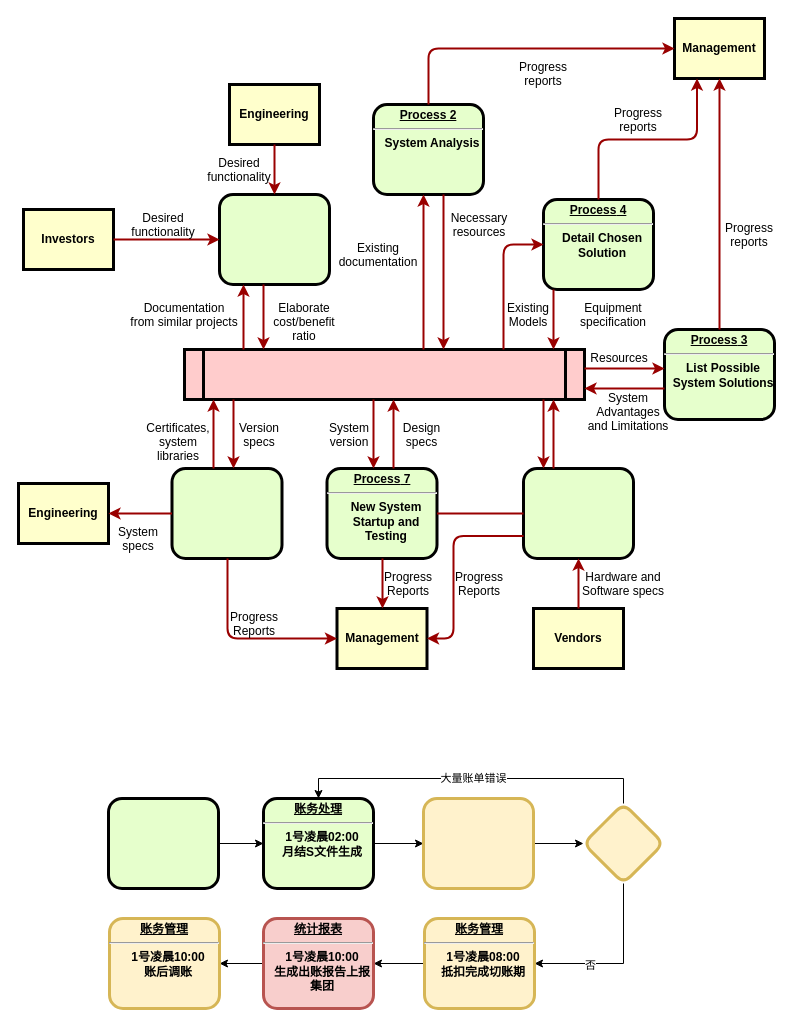
This 793x1027 diagram has some shape labels left out. The centre of each missing label's shape, as x and y in pixels:
"ON-DEMAND SYSTEM DEVELOPMENT" belongs at pixel 384 374.
"Process 1 System Study Preparation" belongs at pixel 274 239.
"Process 5 New System Design" belongs at pixel 578 513.
"Process 6 New System Construction" belongs at pixel 226 513.
"账务处理 1号凌晨00:00 月末优惠生效" belongs at pixel 163 843.
"账务管理 1号凌晨04:00 抵扣" belongs at pixel 478 843.
"账单差错" belongs at pixel 623 843.
